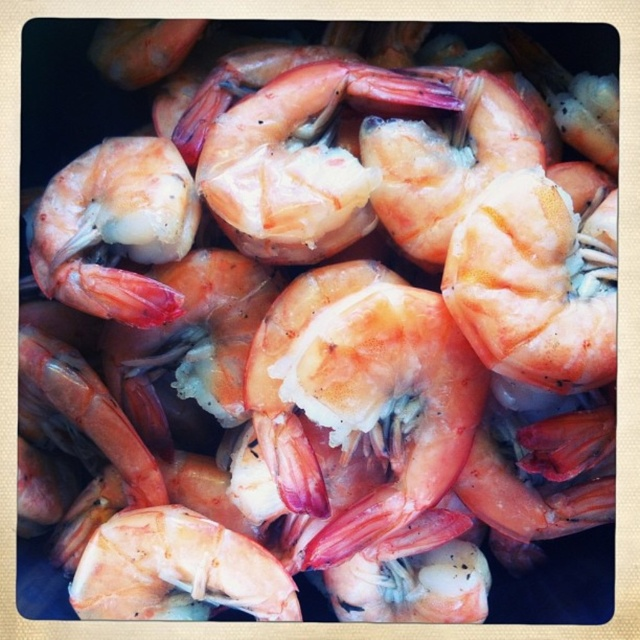Shrimp: (17, 19, 616, 624)
